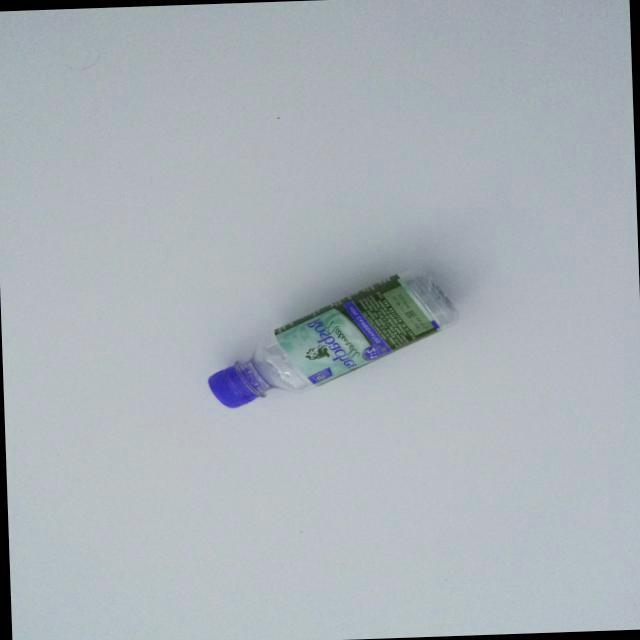plastic: (179, 237, 481, 432)
